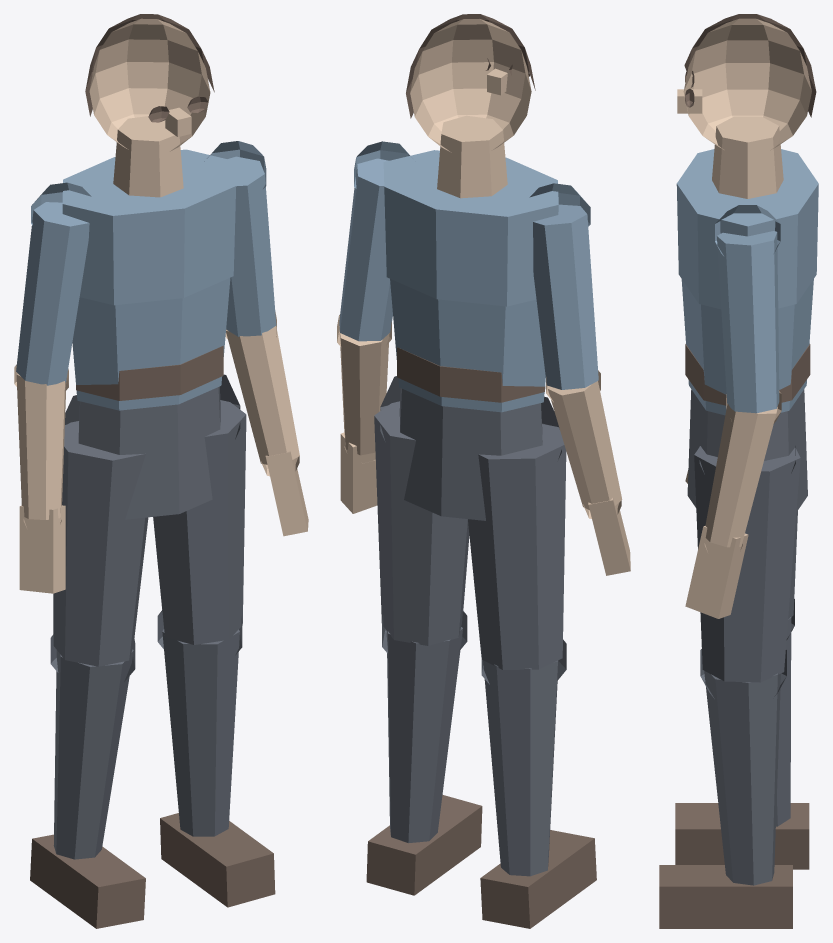
File: low-poly-character-figures-civilian-standing-idle-514e9033.glb
3 renders of one model, left to right at view 1: azimuth 30°, elevation 25°; view 2: azimuth 150°, elevation 25°; view 3: azimuth 270°, elevation 25°, orthographic.
Visible parts, largest first — view 1: civilian-standing-idle; view 2: civilian-standing-idle; view 3: civilian-standing-idle.
Part boxes in pixels (x1,y1,x2,y2): civilian-standing-idle: (14,14,308,928); civilian-standing-idle: (337,14,630,928); civilian-standing-idle: (659,14,818,928).
Size of the model in its own units: 0.6156 by 1.76 by 0.292.
